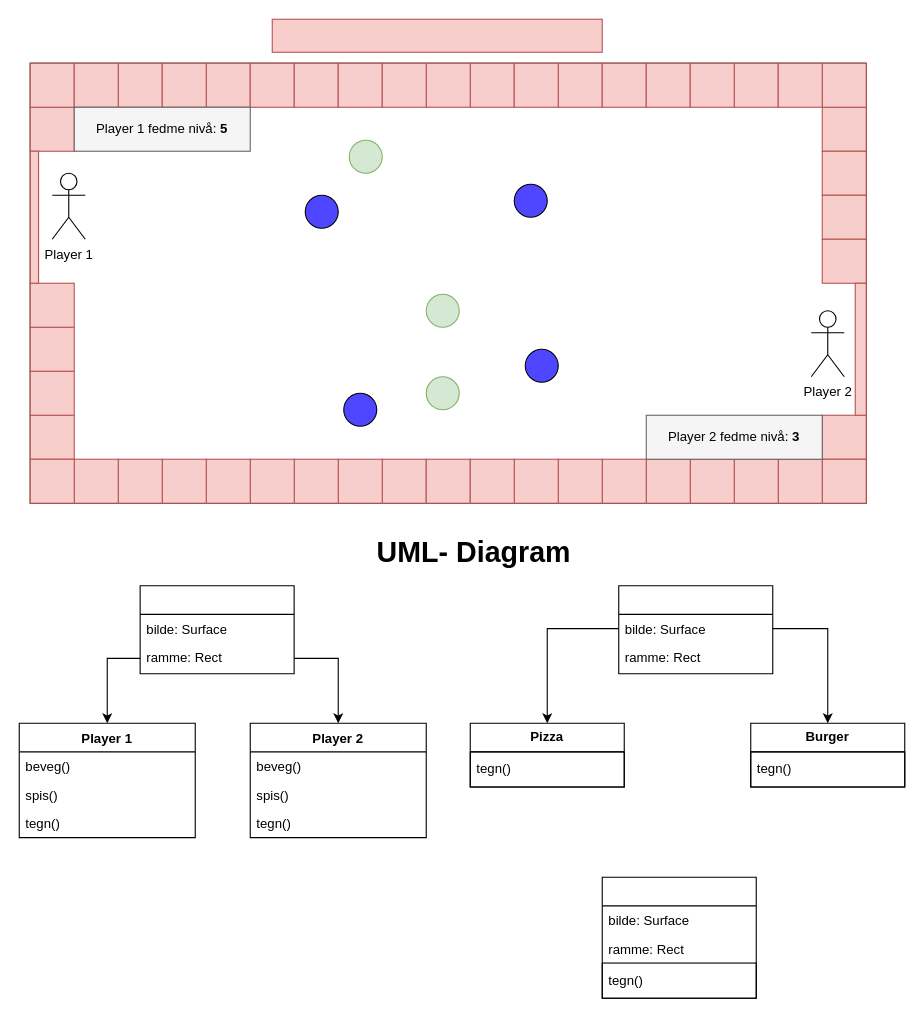
Some shapes in this 924 by 1018 pixel diagram are drawn without their labels. Here are the shapes that lost their labels. From the top down, the box of each, then its label:
(271, 18, 602, 52): Førstemann til fedme
(139, 585, 294, 674): Figur
(618, 585, 773, 674): Matbit
(601, 876, 756, 998): Vegg
